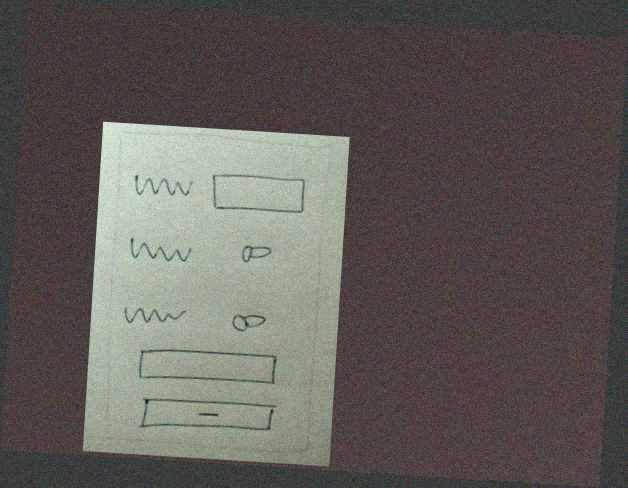button: (136, 391, 280, 440)
switch: (226, 305, 275, 337), (229, 238, 279, 269)
text: (125, 231, 198, 271), (129, 170, 197, 205), (120, 302, 189, 330)
text_input: (134, 344, 284, 390), (207, 170, 312, 220)
